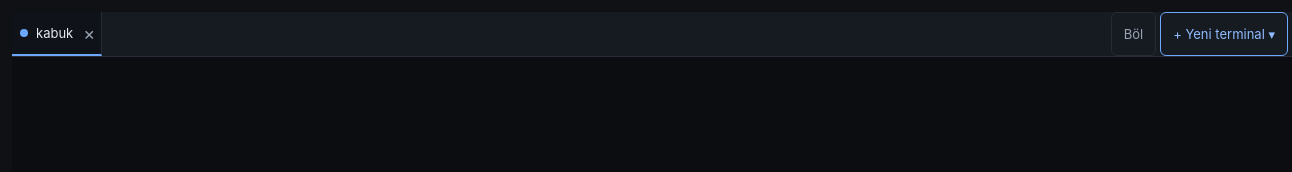
Test: TerminalsPanel › Escape closes the menu
Click the button "+ Yeni terminal ▾" at (1224, 34), box x1=1160 y1=12 x2=1288 y2=56
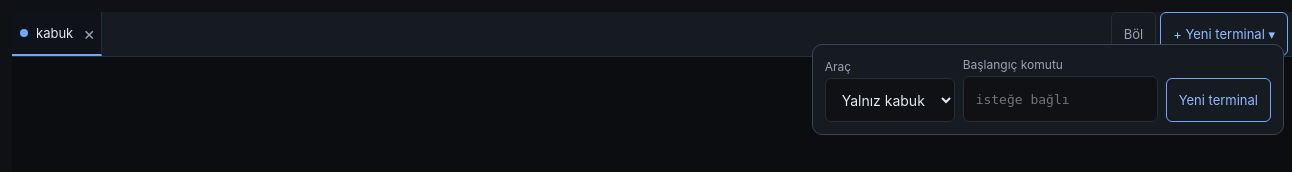
Result: the button "+ Yeni terminal ▾" is expanded at x1=1160 y1=12 x2=1288 y2=56
Press Escape in the element "Yeni terminal", box x1=812 y1=44 x2=1284 y2=135
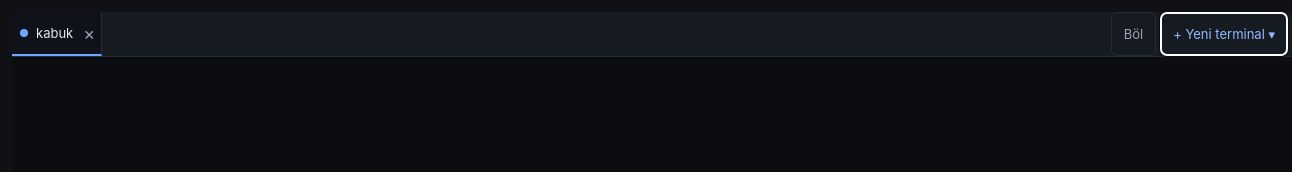
Result: the button "+ Yeni terminal ▾" is collapsed at x1=1160 y1=12 x2=1288 y2=56
